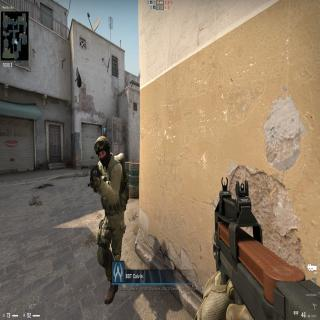CT-Head: (94, 136, 112, 164)
